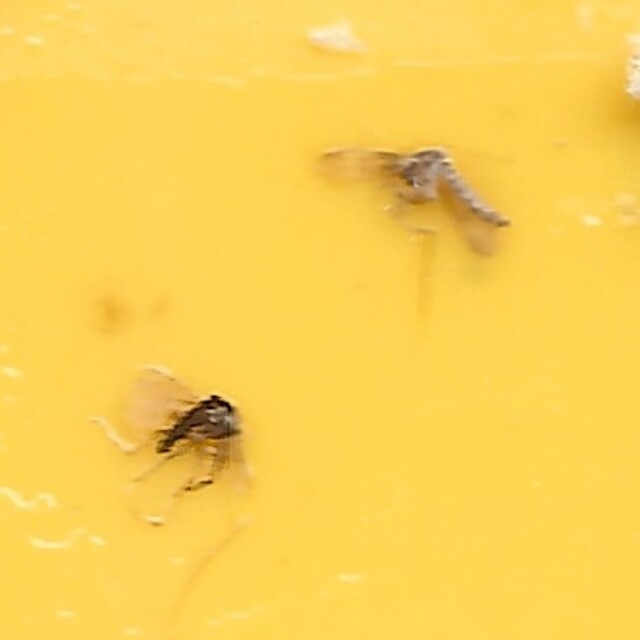Nematocera: (310, 138, 510, 270), (130, 361, 251, 502)
